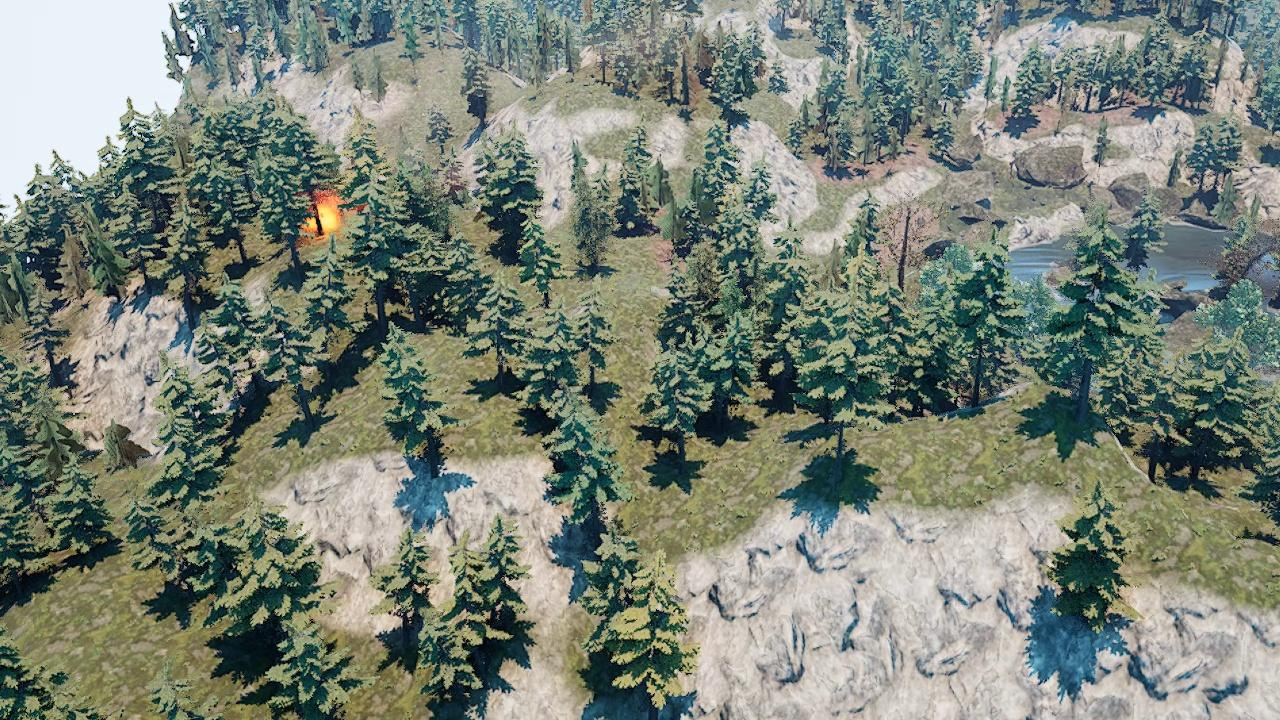fire: (307, 194, 346, 238)
